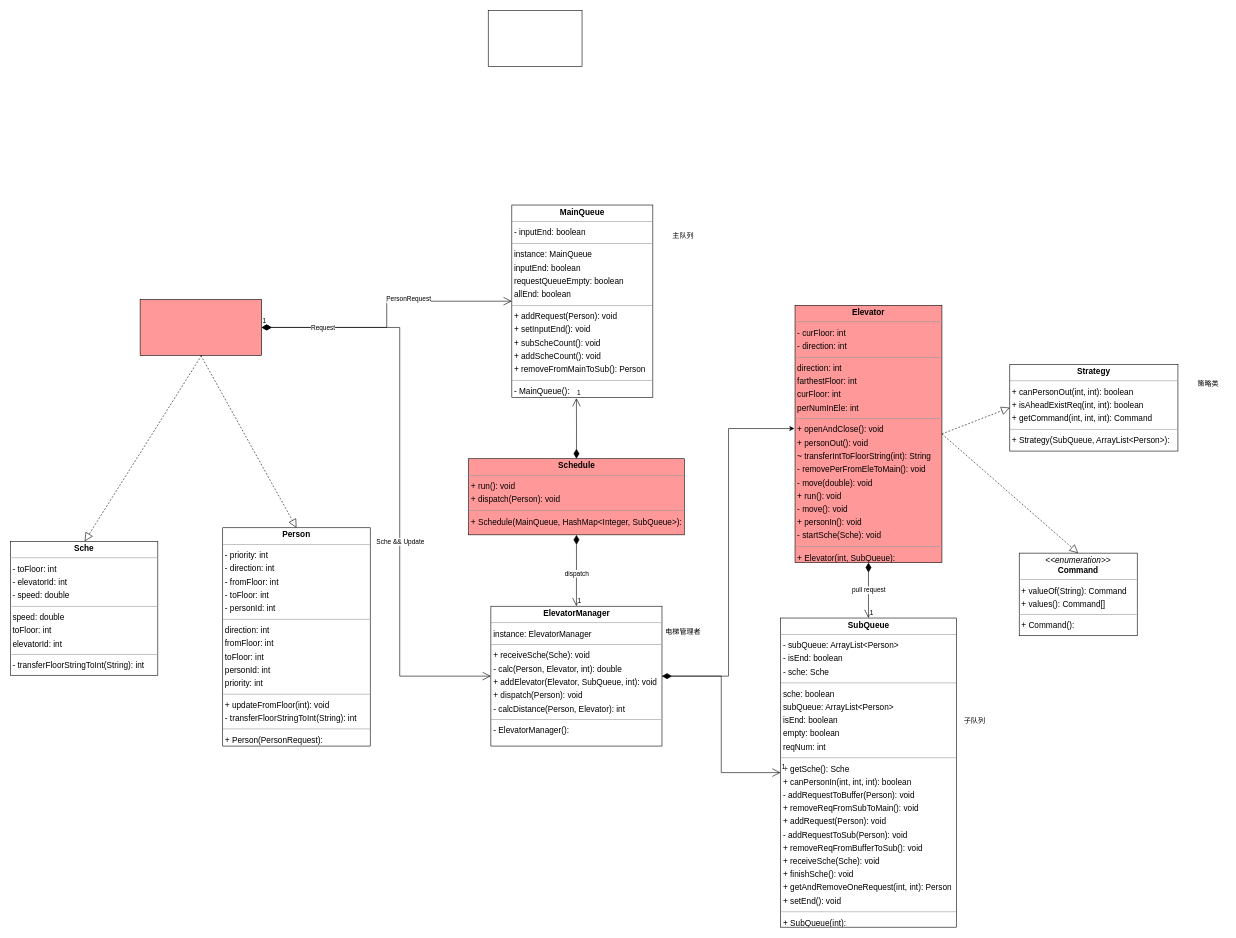
This 1236x938 diagram has some shape labels left out. Here are the shapes that lost their labels. From the top down, the centre of each, then its label:
the point at 535,38: MainClass + main(String[]): void + MainClass():
the point at 201,327: InputHandler + run(): void + InputHandler(MainQueue):
